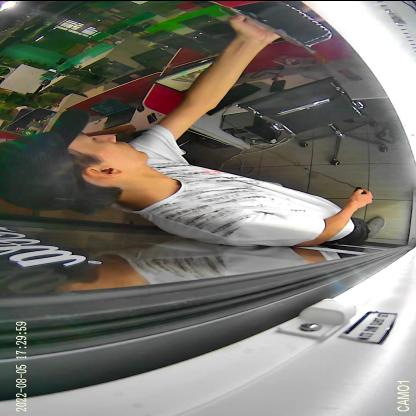red: (208, 0, 334, 53)
